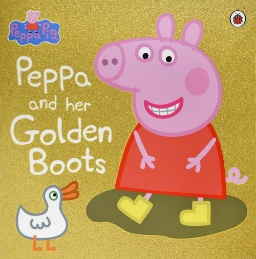Peppa: (94, 13, 251, 240)
